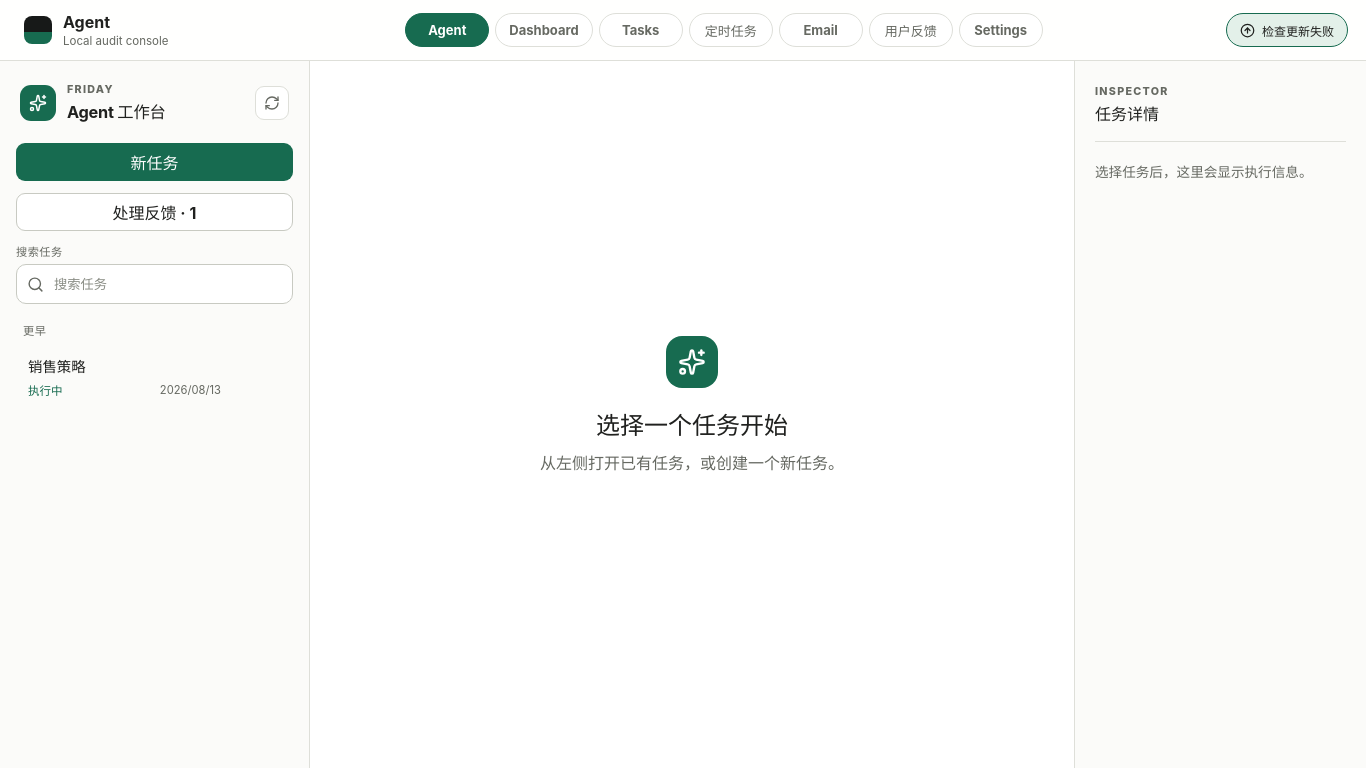
Test: App › preserves a created task when an older refresh resolves afterward
This screenshot has width=1366, height=768.
Expected: the text "销售策略" is shown, [28,358,86,375]
What coordinates should you click on to do the following:
click the button "新任务"
I would click on:
 (154, 162)
Its box is [16,143,293,181].
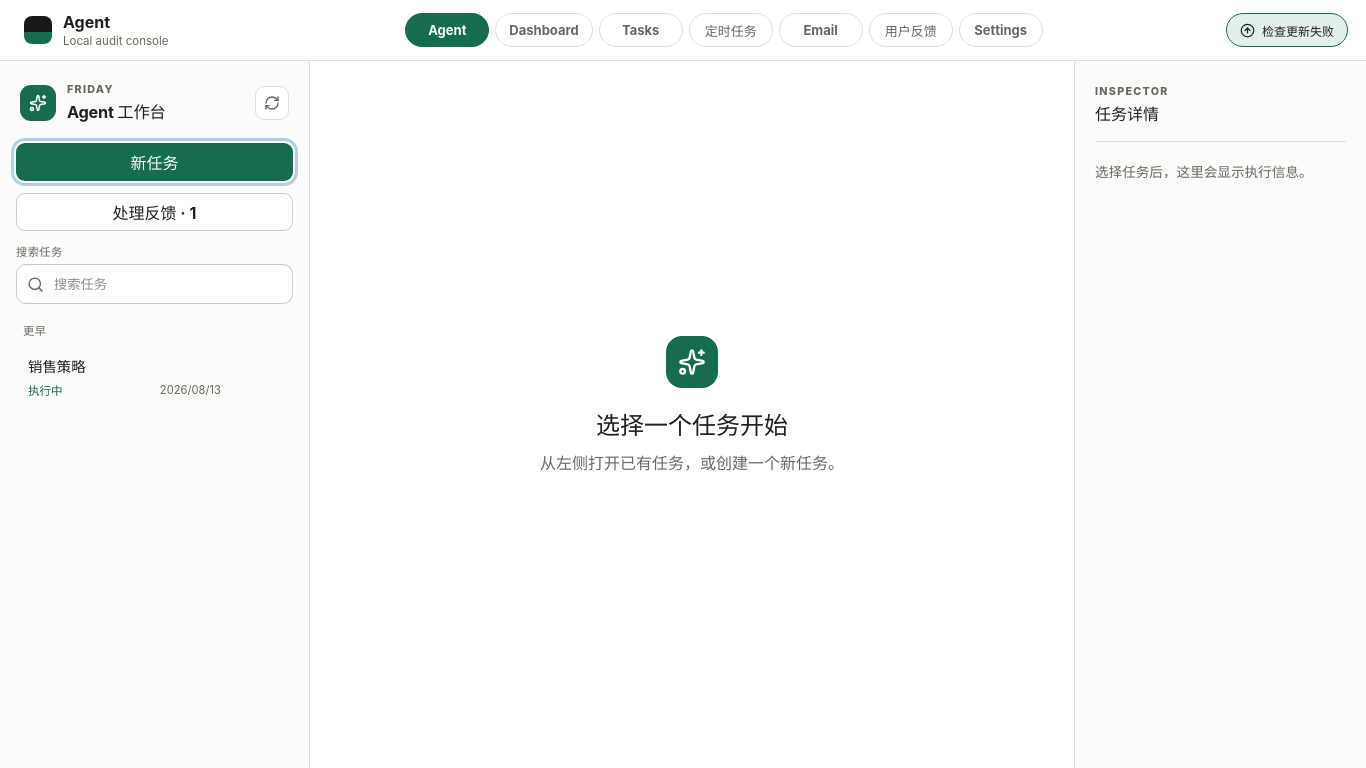
What coordinates should you click on to do the following:
click the button named "刷新任务"
I would click on:
 (272, 103)
Its box is [255,86,289,120].
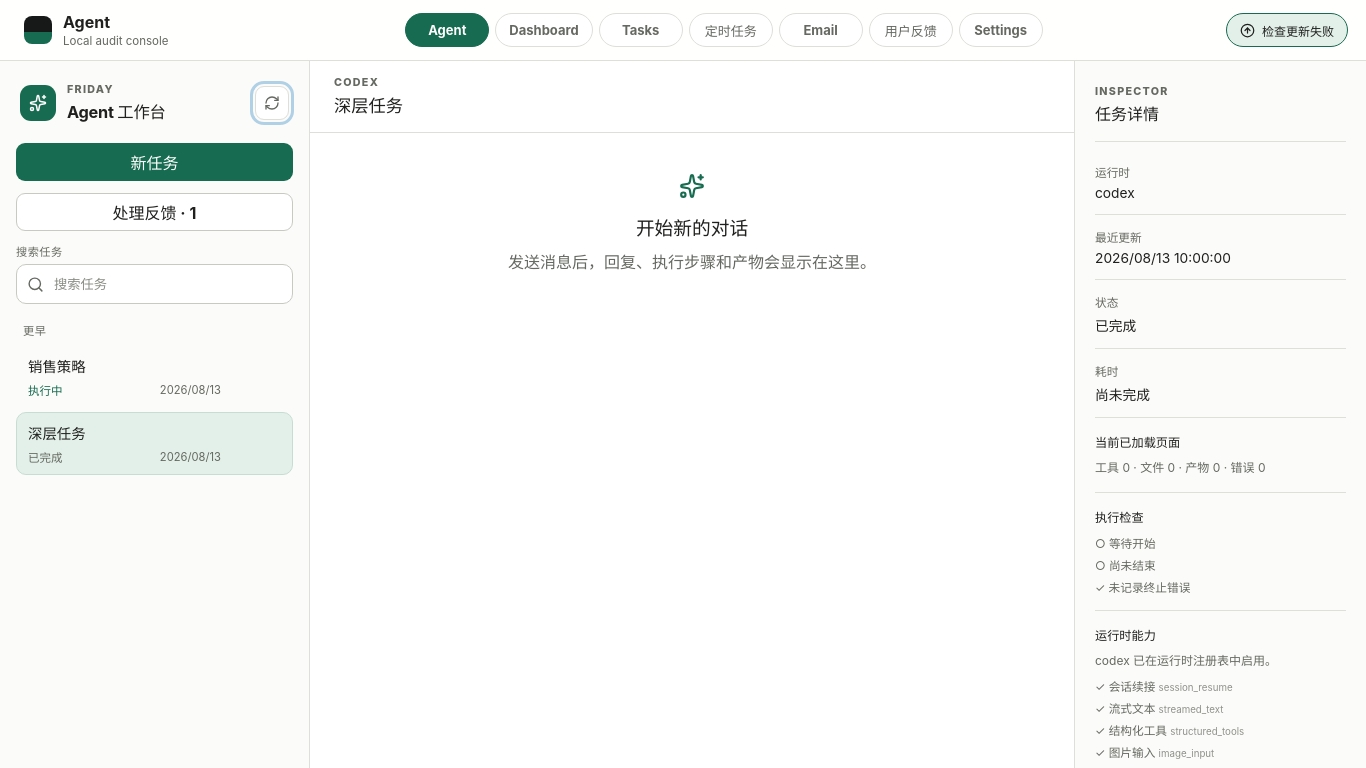
Now the heading "深层任务" is shown, box [334,95,403,116]
